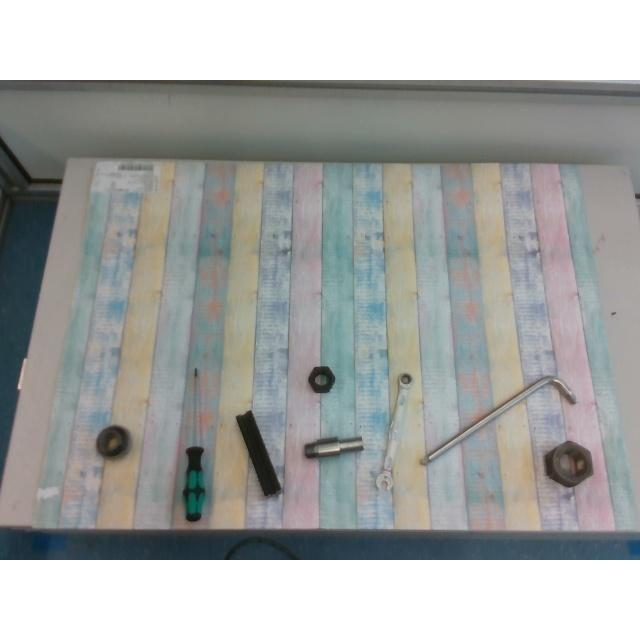AllenKey: (422, 376, 576, 464)
Axis2: (304, 436, 364, 456)
Bearing2: (96, 426, 130, 458)
F20_20_B: (236, 410, 280, 498)
M20: (308, 366, 334, 392)
M30: (544, 442, 592, 486)
Screwdriver: (182, 368, 205, 520)
Wrench: (376, 372, 412, 492)
